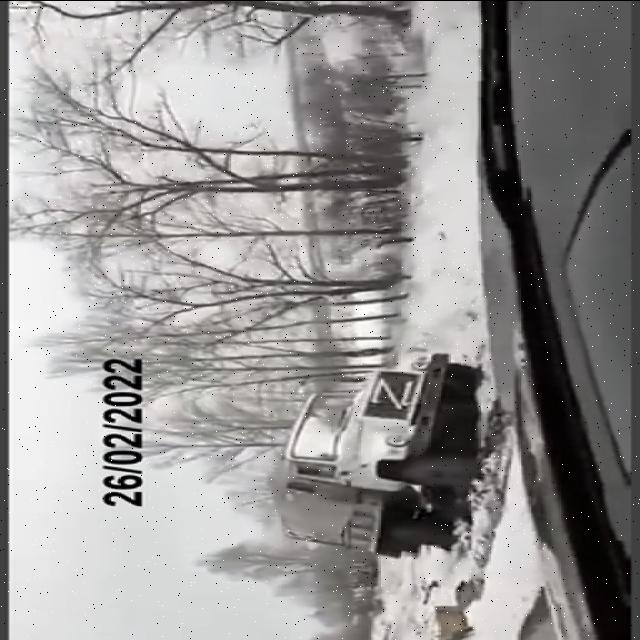TRUCK: (267, 352, 493, 556)
